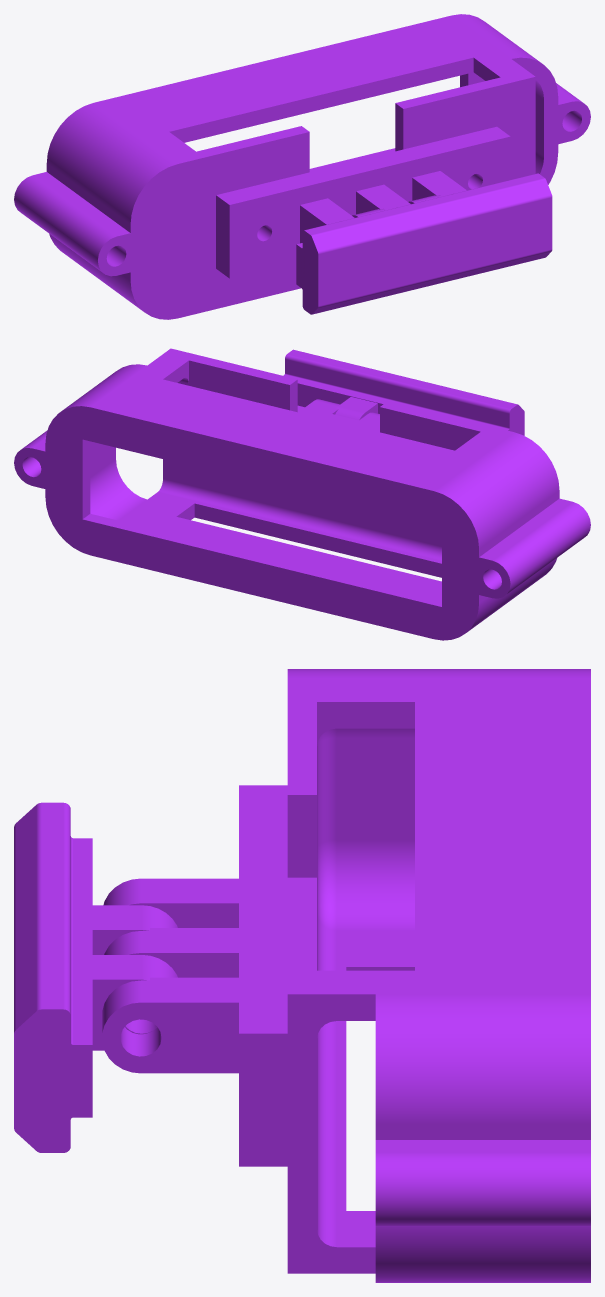
The model's file is realsense.dae.
The picture shows the model from 3 angles, top to bottom: view 1: azimuth 30°, elevation 25°; view 2: azimuth 150°, elevation 25°; view 3: azimuth 270°, elevation 25°; orthographic projection. The views are drawn at different scales.
Parts seen in each view (by area): view 1: Body1 (×4); view 2: Body1 (×4); view 3: Body1 (×4).
Part boxes in pixels (left/top/right/bottom): Body1 (×4): left=14, top=14, right=590, bottom=319; Body1 (×4): left=14, top=348, right=590, bottom=640; Body1 (×4): left=14, top=669, right=590, bottom=1282.
Bounding box in the file's own units: 0.1105 × 0.059 × 0.0315.
